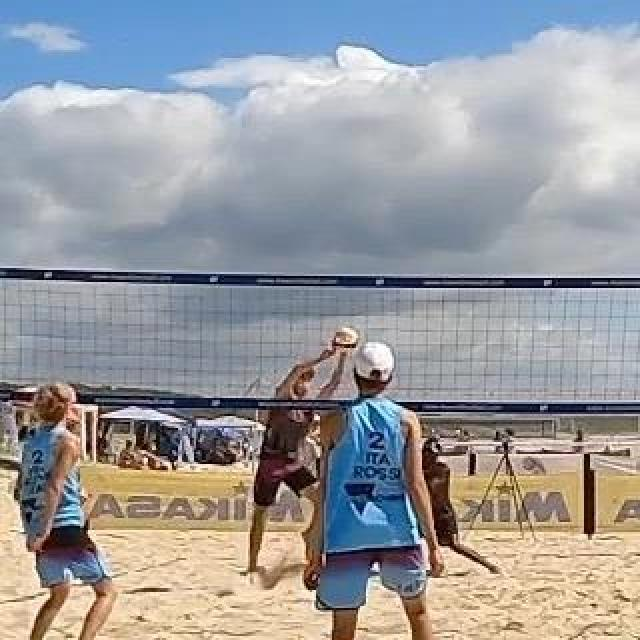volleyball: (332, 327, 360, 353)
